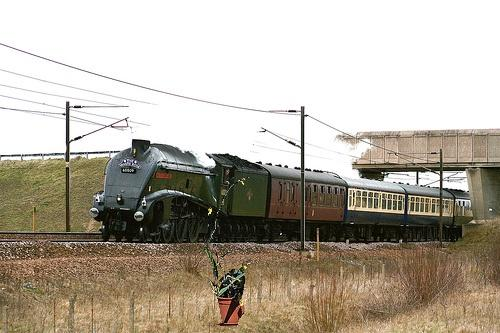tampered: (205, 178, 250, 326)
